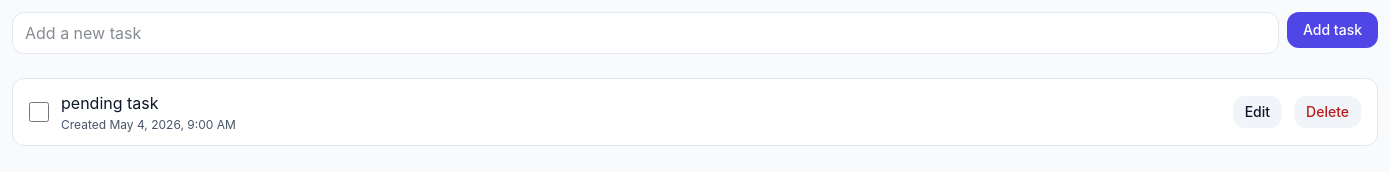
Test case: <TaskRow /> behaviours (rendered through <TaskList />) › saves an edited title on submit and updates the row
Click the button named "edit \"pending task\"" at [1257, 112], box [1233,96,1282,128]
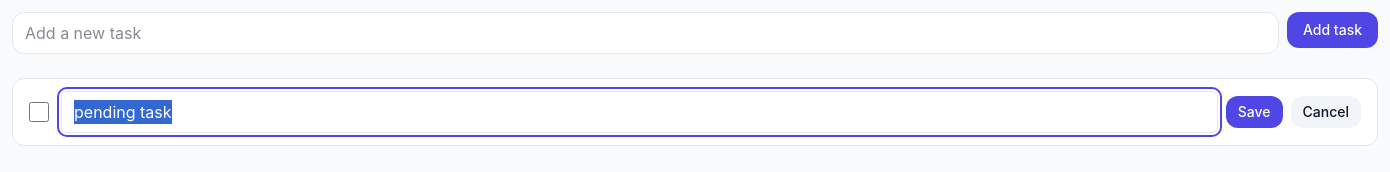
Replace the text in the field named "edit task title" with "edited" at [639, 112], box [61,91,1218,133]
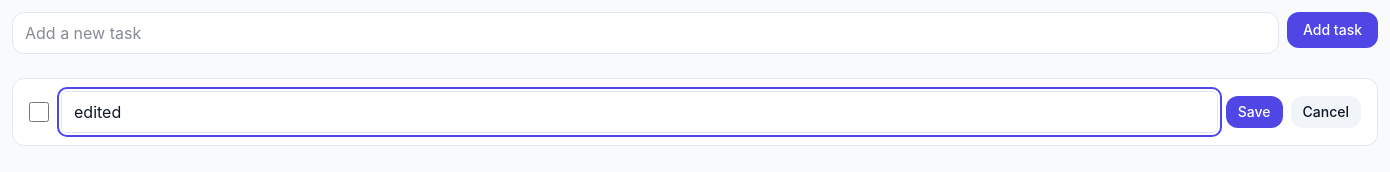
Click the button "Save" at [1254, 112], box [1226,96,1282,128]
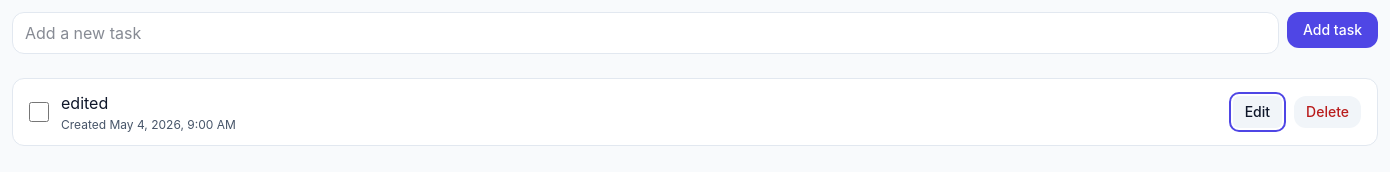
expect the text "edited" is shown: met, box [61,93,108,113]
expect the button "Save" is gone: met
